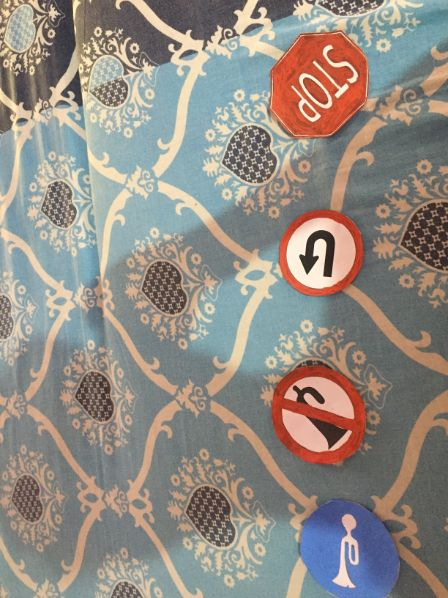blow-horn: (298, 494, 402, 598)
no-horn: (270, 360, 378, 468)
stop: (265, 35, 374, 144)
u-turn: (279, 206, 370, 297)
